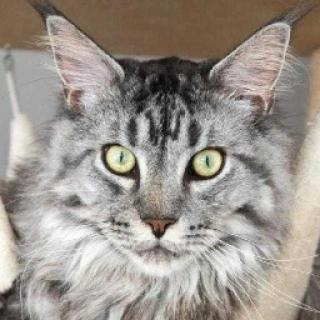cat: (33, 0, 293, 284)
nose: (134, 191, 188, 238)
